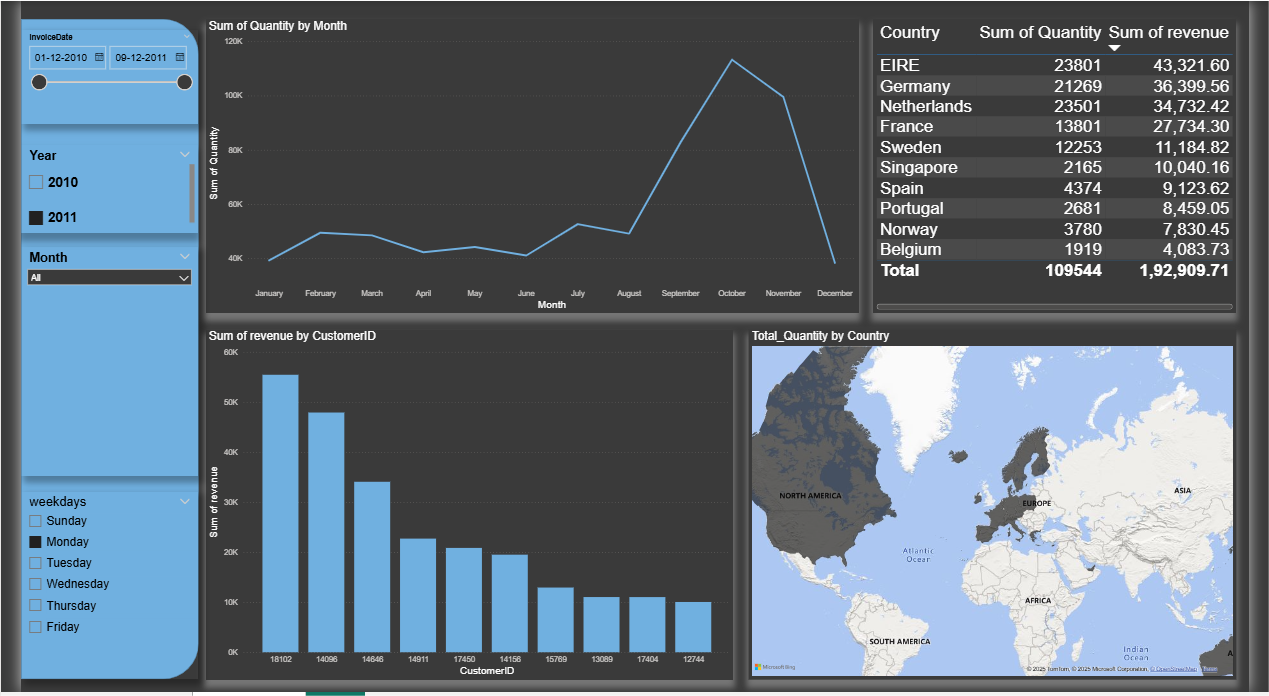

What the dashboard file says about the page in this screenshot:
{"tool":"powerbi","page":{"name":"Page 1","canvas":[1920,1080],"ordinal":0},"visuals":[{"type":"shape","box":[0,28.3,277.8,1031.8],"z":0},{"type":"slicer","fields":{"Values":["Online Retail.Year"]},"box":[0,225.1,276.6,138.3],"z":1000},{"type":"lineChart","fields":{"Y":["Sum(Online Retail.Quantity)"],"Category":["Online Retail.Month"]},"box":[289.1,28.3,1020.5,459.2],"z":2000},{"type":"tableEx","fields":{"Values":["Online Retail.Country","Sum(Online Retail.Quantity)","Sum(Online Retail.revenue)"]},"box":[1332.3,28.3,566.9,459.2],"z":3000},{"type":"clusteredColumnChart","fields":{"Category":["Online Retail.CustomerID"],"Y":["Sum(Online Retail.revenue)"]},"box":[289.1,513.1,824.9,547.1],"z":4000},{"type":"filledMap","fields":{"Category":["Online Retail.Country"]},"box":[1136.7,513.1,762.5,547.1],"z":5000},{"type":"slicer","fields":{"Values":["Online Retail.Month"]},"box":[0,384.5,276.6,358.7],"z":6000},{"type":"slicer","fields":{"Values":["Online Retail.InvoiceDate"]},"box":[0,44.5,276.6,147.7],"z":7000},{"type":"slicer","fields":{"Values":["Online Retail.weekdays"]},"box":[0,766.6,276.6,293.1],"z":8000}]}

Visuals, with their boxes in screenshot pixels (x1, y1, x2, y2), scaled from the page's 1920x1080 canvas onto the 1269x696 screenshot:
shape: [0,18,184,683]
slicer - Online Retail.Year: [0,145,183,234]
lineChart - Sum(Online Retail.Quantity) x Online Retail.Month: [191,18,866,314]
tableEx - Online Retail.Country x Sum(Online Retail.Quantity): [881,18,1255,314]
clusteredColumnChart - Online Retail.CustomerID x Sum(Online Retail.revenue): [191,331,736,683]
filledMap - Online Retail.Country: [751,331,1255,683]
slicer - Online Retail.Month: [0,248,183,479]
slicer - Online Retail.InvoiceDate: [0,29,183,124]
slicer - Online Retail.weekdays: [0,494,183,683]
